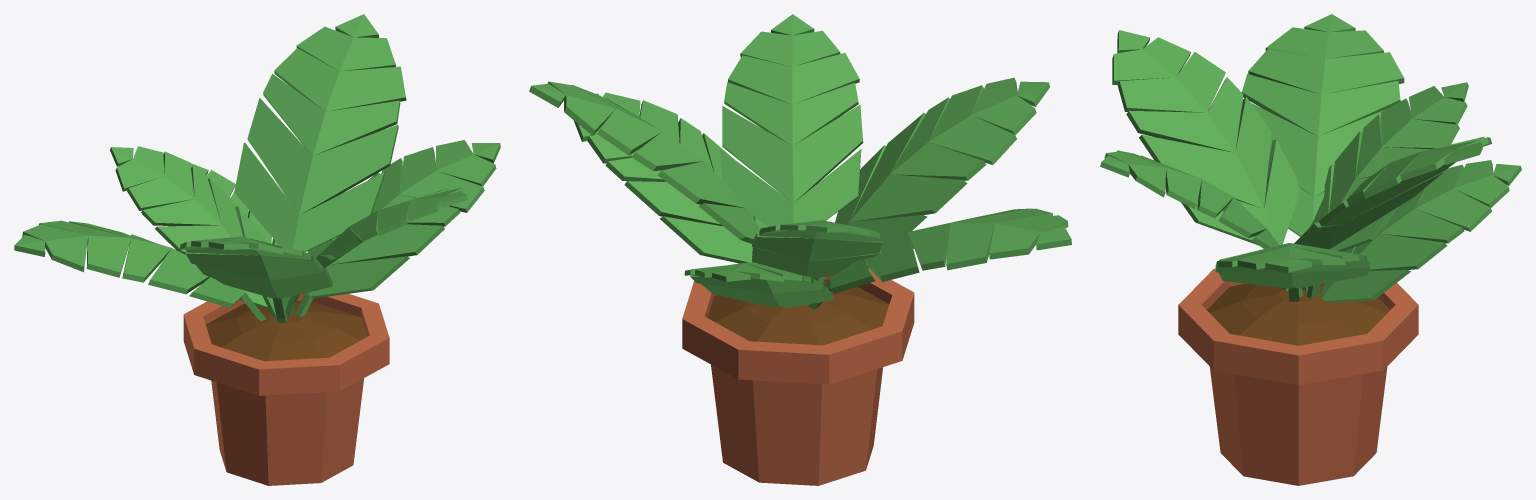
The picture shows the model from 3 angles, left to right: view 1: azimuth 30°, elevation 25°; view 2: azimuth 150°, elevation 25°; view 3: azimuth 270°, elevation 25°; orthographic projection. The views are drawn at different scales.
Parts seen in each view (by area): view 1: lowpoly.taobao.com.022, lowpoly.taobao.com.011, lowpoly.taobao.com.012, lowpoly.taobao.com.026, lowpoly.taobao.com.027; view 2: lowpoly.taobao.com.022, lowpoly.taobao.com.011, lowpoly.taobao.com.012, lowpoly.taobao.com.026, lowpoly.taobao.com.027; view 3: lowpoly.taobao.com.011, lowpoly.taobao.com.022, lowpoly.taobao.com.012, lowpoly.taobao.com.027, lowpoly.taobao.com.026.
Part boxes in pixels (x1,y1,x2,y2): lowpoly.taobao.com.022: [14, 14, 467, 321]; lowpoly.taobao.com.011: [183, 293, 389, 485]; lowpoly.taobao.com.012: [110, 146, 332, 323]; lowpoly.taobao.com.026: [295, 140, 500, 316]; lowpoly.taobao.com.027: [168, 163, 278, 309]; lowpoly.taobao.com.022: [529, 14, 1071, 309]; lowpoly.taobao.com.011: [682, 268, 914, 485]; lowpoly.taobao.com.012: [752, 77, 1049, 283]; lowpoly.taobao.com.026: [573, 92, 768, 263]; lowpoly.taobao.com.027: [684, 262, 833, 307]; lowpoly.taobao.com.011: [1178, 268, 1418, 485]; lowpoly.taobao.com.022: [1100, 14, 1492, 298]; lowpoly.taobao.com.012: [1112, 30, 1468, 291]; lowpoly.taobao.com.027: [1321, 160, 1521, 302]; lowpoly.taobao.com.026: [1215, 243, 1370, 301].
Size of the model in its own units: 648 by 460 by 450.
